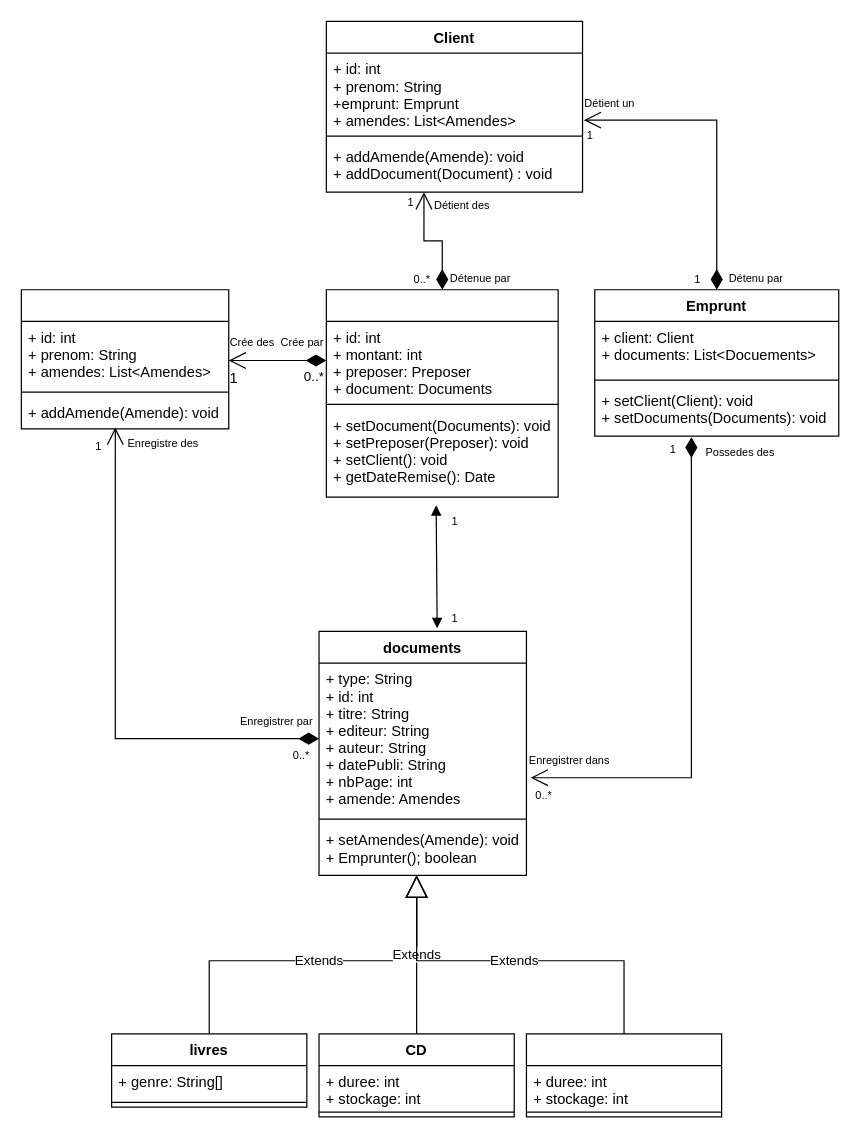
This 860x1138 diagram has some shape labels left out. The shapes that lost their labels are listed below. From the top down, each one's box as (x1, y1, x2, y2) in pixels, then its label:
(20, 289, 229, 429): Prepose
(325, 289, 558, 497): Amendes
(525, 1033, 722, 1117): dvd
